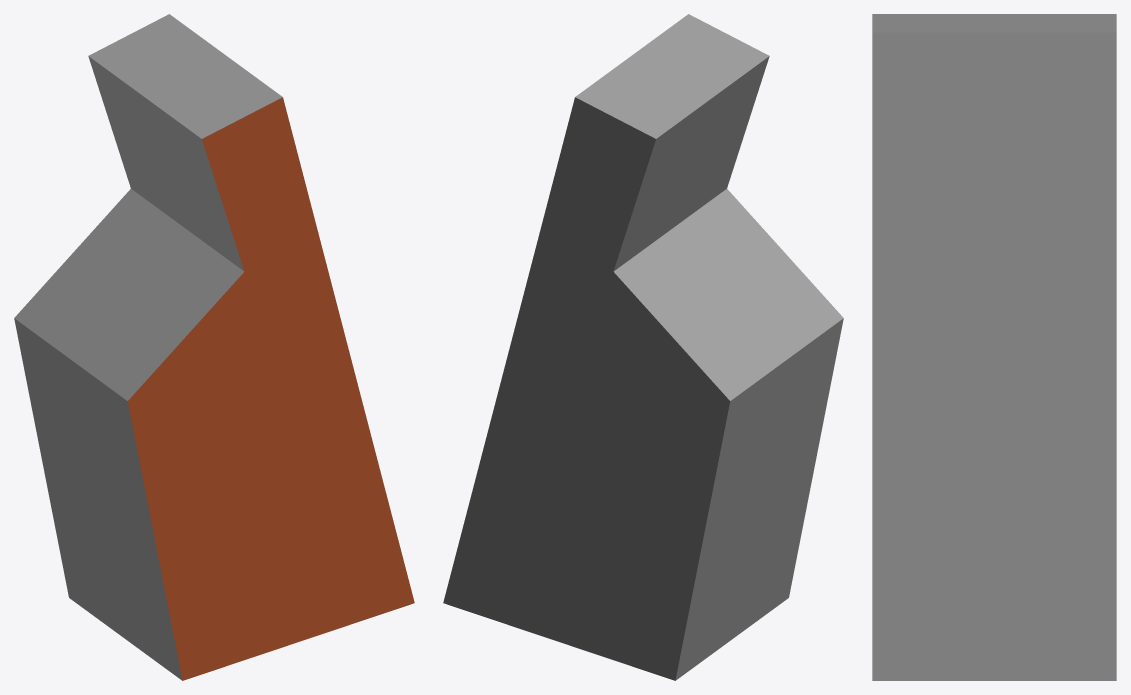
The model's file is construction_7242_assumed_A_Ruinas_h6m.obj.
The picture shows the model from 3 angles, left to right: view 1: azimuth 30°, elevation 25°; view 2: azimuth 150°, elevation 25°; view 3: azimuth 270°, elevation 25°; orthographic projection. The views are drawn at different scales.
Visible parts, largest first — view 1: construction_7242_assumed_A_Ruinas; view 2: construction_7242_assumed_A_Ruinas; view 3: construction_7242_assumed_A_Ruinas.
Boxes of the visible parts, box(x1,y1,x2,y2) form: construction_7242_assumed_A_Ruinas: box(14, 14, 414, 680); construction_7242_assumed_A_Ruinas: box(443, 14, 843, 680); construction_7242_assumed_A_Ruinas: box(872, 14, 1116, 680).
Bounding box in the file's own units: 8.76 × 16.31 × 6.
